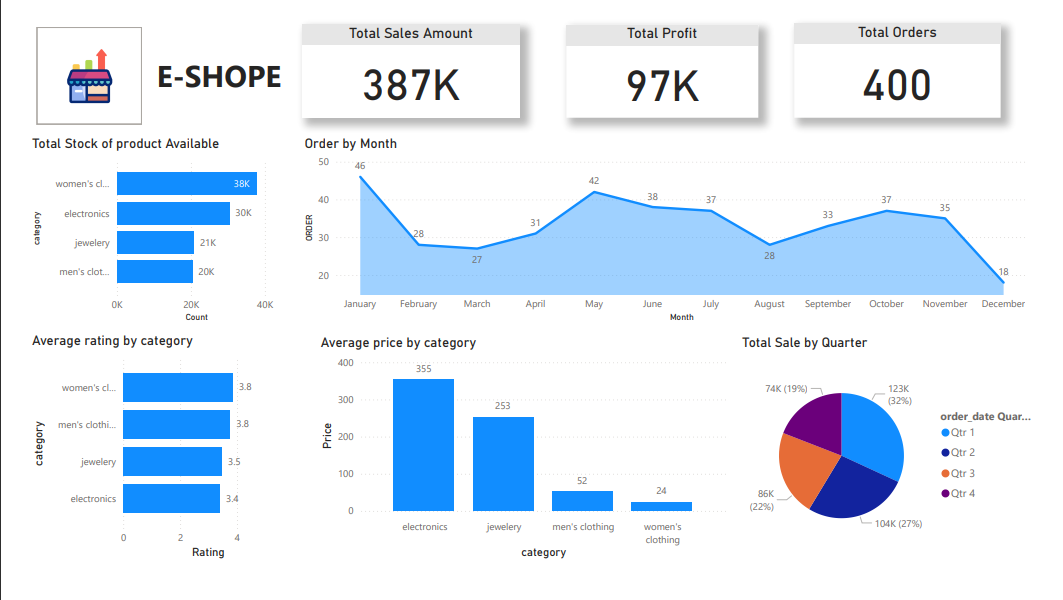

What the dashboard file says about the page in this screenshot:
{"tool":"powerbi","page":{"name":"Page 1","canvas":[1280,720],"ordinal":0},"visuals":[{"type":"clusteredBarChart","title":"Total Stock of product  Available ","fields":{"Category":["public pro_order.category"],"Y":["Sum(public pro_order.count)"]},"box":[10,160,326.2,237.5],"z":0},{"type":"clusteredColumnChart","title":"Average price by category","fields":{"Category":["pro_order.category"],"Y":["Avg(pro_order.price)"]},"box":[371.2,407.5,516.2,285],"z":1000},{"type":"clusteredBarChart","title":"Average rating by category","fields":{"Category":["pro_order.category"],"Y":["Avg(pro_order.rate)"]},"box":[10,406.2,341.2,286.2],"z":2000},{"type":"card","title":"Total SALES AMOUNT","fields":{"Values":["pro_order.Total Sale"]},"box":[352.5,21.2,272.5,116.2],"z":3000},{"type":"card","title":"Total Profit","fields":{"Values":["pro_order.Net_Profit"]},"box":[682.5,21.2,215,117.5],"z":4000},{"type":"pieChart","fields":{"Category":["pro_order.order_date.Variation.Date Hierarchy.Quarter"],"Y":["pro_order.Total Sale"]},"box":[897.5,407.5,375,285],"z":5000},{"type":"areaChart","title":"Order by Month","fields":{"Category":["pro_order.order_date.Variation.Date Hierarchy.Month"],"Y":["CountNonNull(pro_order.order_id)"]},"box":[351,160,915,237],"z":6000},{"type":"card","title":"Total Orders","fields":{"Values":["CountNonNull(pro_order.order_id)"]},"box":[967.5,20,258.8,117.5],"z":7000},{"type":"cardVisual","fields":{"Data":["CountNonNull(pro_order.count)"]},"box":[16.2,20,141.2,131.2],"z":8000},{"type":"textbox","box":[166.2,55,178.8,61.2],"z":9000}]}

Visuals, with their boxes in screenshot pixels (x1, y1, x2, y2), scaled from the page's 1280x720 canvas onto the 1063x600 screenshot:
"Total Stock of product  Available " clusteredBarChart: {"left": 8, "top": 133, "right": 279, "bottom": 331}
"Average price by category" clusteredColumnChart: {"left": 308, "top": 340, "right": 737, "bottom": 577}
"Average rating by category" clusteredBarChart: {"left": 8, "top": 338, "right": 292, "bottom": 577}
"Total SALES AMOUNT" card: {"left": 293, "top": 18, "right": 519, "bottom": 115}
"Total Profit" card: {"left": 567, "top": 18, "right": 745, "bottom": 116}
pieChart - pro_order.order_date.Variation.Date Hierarchy.Quarter x pro_order.Total Sale: {"left": 745, "top": 340, "right": 1057, "bottom": 577}
"Order by Month" areaChart: {"left": 291, "top": 133, "right": 1051, "bottom": 331}
"Total Orders" card: {"left": 803, "top": 17, "right": 1018, "bottom": 115}
cardVisual - CountNonNull(pro_order.count): {"left": 13, "top": 17, "right": 131, "bottom": 126}
textbox: {"left": 138, "top": 46, "right": 287, "bottom": 97}
